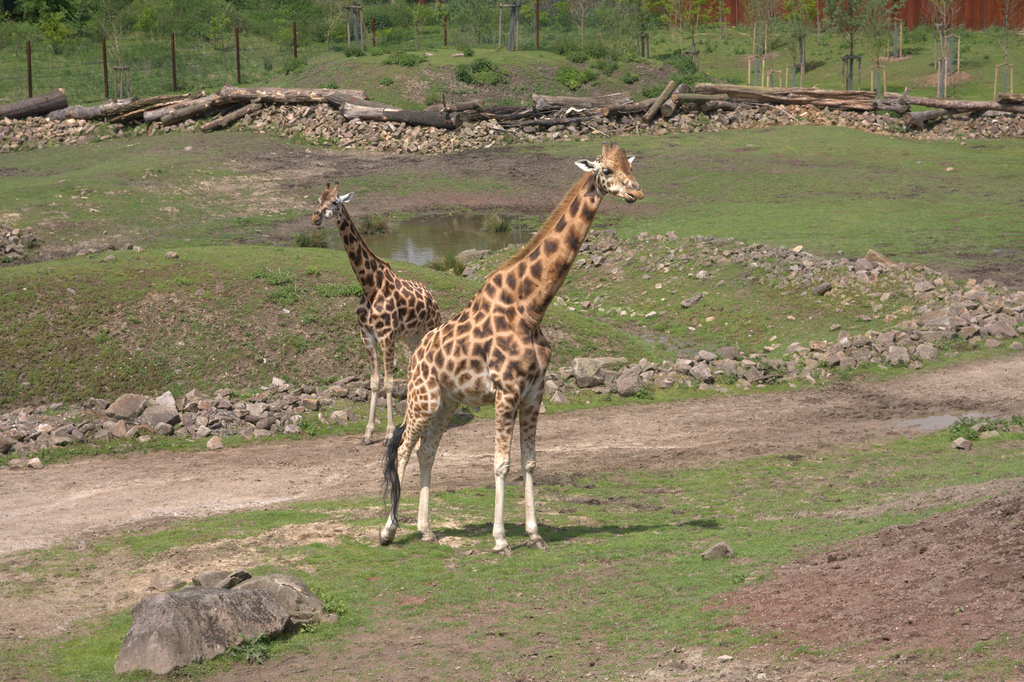giraffe: (408, 141, 656, 550), (299, 183, 442, 422)
